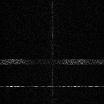wifi: (1, 58, 104, 64), (1, 84, 104, 87)
